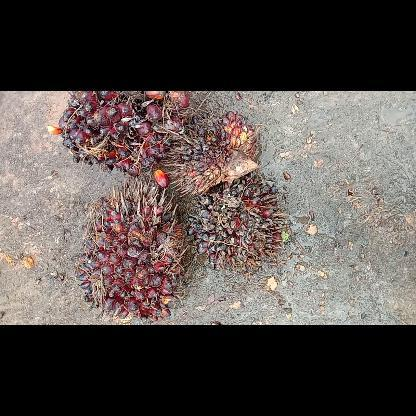Kurang masak: (47, 90, 189, 174)
TBS abnormal: (188, 176, 286, 270), (163, 110, 257, 196)
TBS masak: (78, 177, 188, 319)
